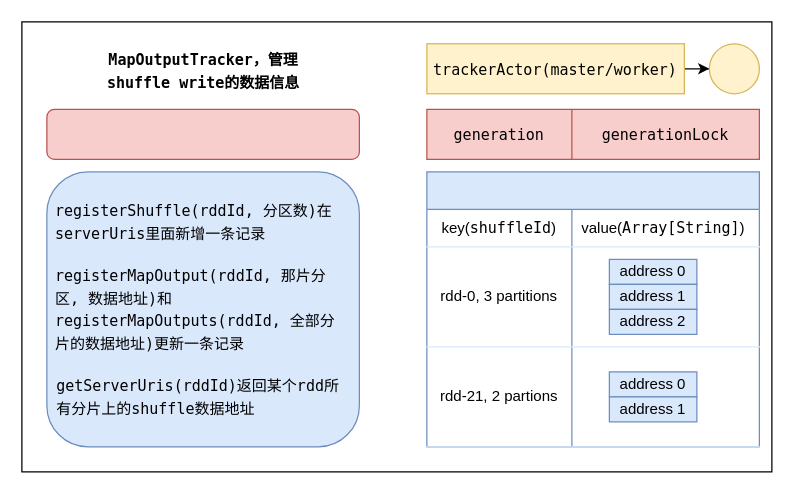
Some shapes in this 794 by 494 pixel diagram are drawn without their labels. Each missing label, with the box of its shape:
Actor: (708, 42, 759, 94)
generation管理的数据版本，避免脏数据: (46, 108, 359, 159)
serverUris( ConcurrentHashMap ): (426, 171, 759, 447)
